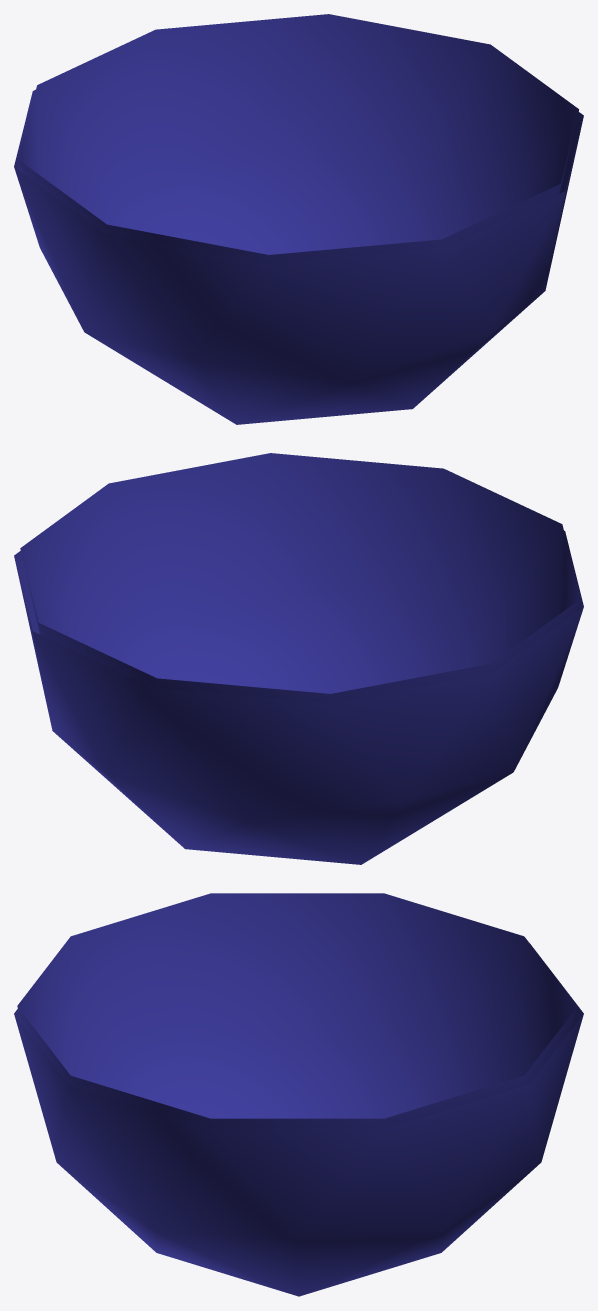
Rendered from bowl.fbx.
The picture shows the model from 3 angles, top to bottom: view 1: azimuth 30°, elevation 25°; view 2: azimuth 150°, elevation 25°; view 3: azimuth 270°, elevation 25°; orthographic projection. The views are drawn at different scales.
Parts seen in each view (by area): view 1: Icosphere; view 2: Icosphere; view 3: Icosphere.
Boxes of the visible parts, x1,y1,x2,y2 form: Icosphere: [14, 14, 583, 424]; Icosphere: [14, 453, 583, 864]; Icosphere: [14, 893, 583, 1296].
Bounding box in the file's own units: 0.1902 × 0.2 × 0.1028.
